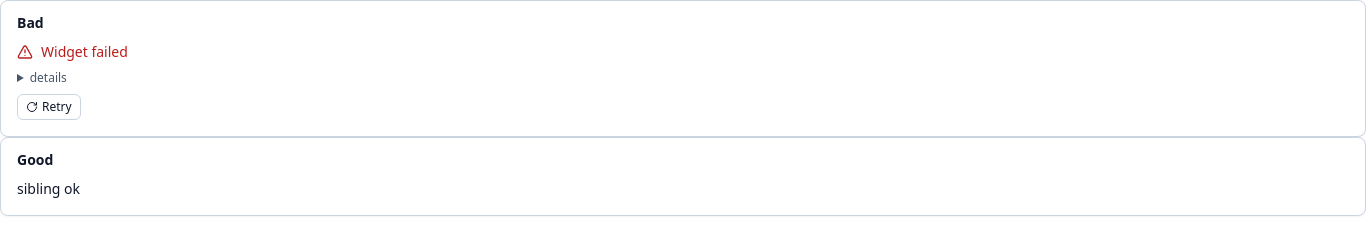
Test: WidgetFrame error boundary › contains a throwing body to its own card and retries by remounting
expect the text "Widget failed" is shown: met, box x1=41 y1=41 x2=128 y2=62
expect the text "sibling ok" is shown: met, box x1=17 y1=179 x2=80 y2=198
Step 1. Click the button "Retry" → (49, 107), box x1=17 y1=94 x2=81 y2=120
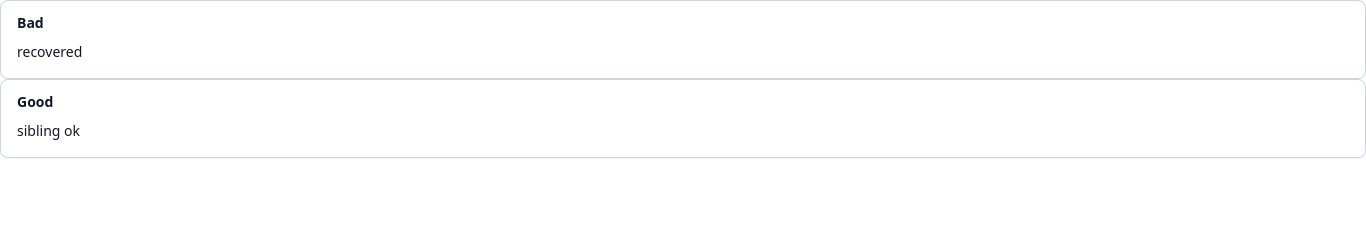
expect the text "recovered" is shown: met, box x1=17 y1=42 x2=82 y2=61
